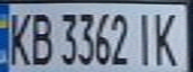2: (109, 9, 133, 66)
3: (54, 8, 78, 66), (75, 9, 96, 66)
6: (93, 8, 115, 66)
B: (27, 8, 57, 66)
I: (133, 8, 157, 66)
K: (148, 7, 184, 68), (3, 8, 33, 68)
